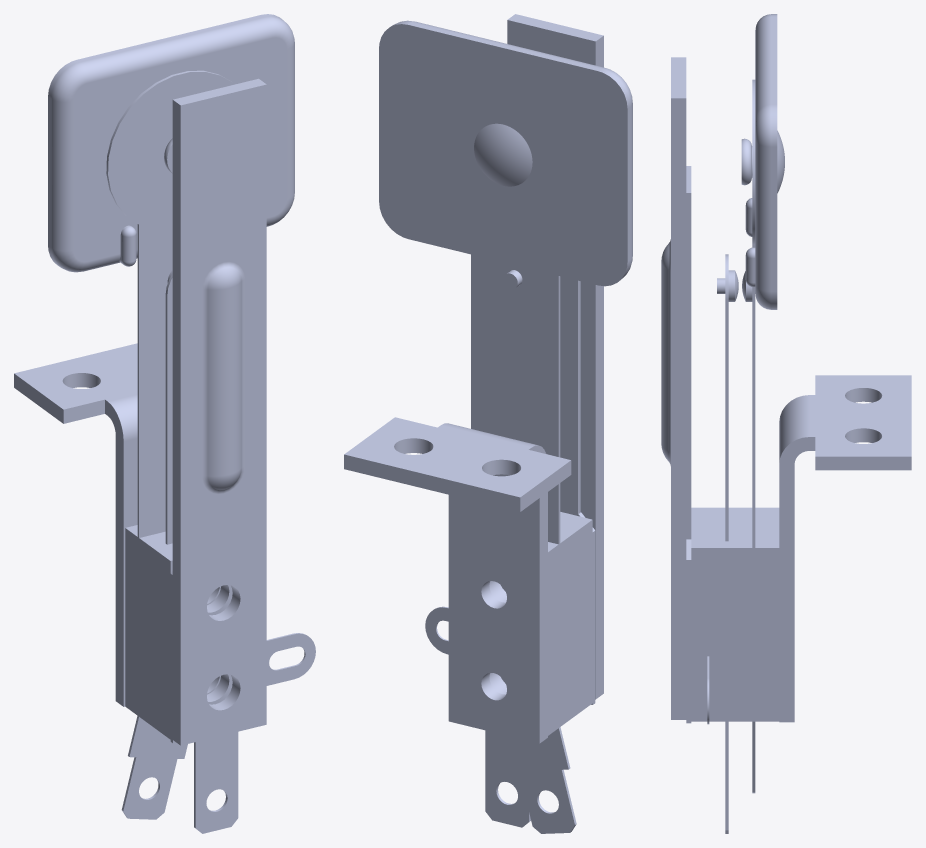
Rendered from Target 005 Rectangular.fbx.
3 renders of one model, left to right at view 1: azimuth 30°, elevation 25°; view 2: azimuth 150°, elevation 25°; view 3: azimuth 270°, elevation 25°, orthographic. The views are drawn at different scales.
Visible parts, largest first — view 1: Target Backing Bar 001, Target - Plastic Face 002, Target - Spring Steel Blade 002, Target Mtg Angle 002, Target - Spring Steel Blade 004, Target Spacer Plate .093 (×2), Target Spacer Plate .060 (×2), Swich Leaf D; view 2: Target - Plastic Face 002, Target Mtg Angle 002, Target - Spring Steel Blade 002, Target Backing Bar 001, switch fish paper 001, Target Spacer Plate .093 (×2), Target Spacer Plate .060 (×2), Target - Spring Steel Blade 004, rivet, Swich Leaf D; view 3: Target Mtg Angle 002, Target Backing Bar 001, Target Spacer Plate .093 (×2), Target - Plastic Face 002, Target Spacer Plate .060 (×2), switch fish paper 001, Target - Spring Steel Blade 002, Target - Spring Steel Blade 004, rivet, Swich Leaf D.
Part boxes in pixels (left/top/right/bottom): Target Backing Bar 001: left=172, top=78, right=266, bottom=745; Target - Plastic Face 002: left=48, top=14, right=294, bottom=272; Target - Spring Steel Blade 002: left=106, top=70, right=234, bottom=819; Target Mtg Angle 002: left=14, top=343, right=137, bottom=706; Target - Spring Steel Blade 004: left=151, top=274, right=238, bottom=833; Target Spacer Plate .093 (×2): left=125, top=525, right=165, bottom=725; Target Spacer Plate .060 (×2): left=153, top=543, right=232, bottom=739; Swich Leaf D: left=161, top=551, right=315, bottom=733; Target - Plastic Face 002: left=379, top=20, right=632, bottom=286; Target Mtg Angle 002: left=344, top=417, right=571, bottom=743; Target - Spring Steel Blade 002: left=471, top=254, right=576, bottom=833; Target Backing Bar 001: left=507, top=14, right=603, bottom=699; switch fish paper 001: left=560, top=276, right=595, bottom=704; Target Spacer Plate .093 (×2): left=489, top=531, right=572, bottom=735; Target Spacer Plate .060 (×2): left=560, top=512, right=592, bottom=715; Target - Spring Steel Blade 004: left=485, top=529, right=574, bottom=827; rivet: left=474, top=123, right=532, bottom=186; Swich Leaf D: left=425, top=520, right=584, bottom=709; Target Mtg Angle 002: left=779, top=375, right=911, bottom=722; Target Backing Bar 001: left=661, top=57, right=686, bottom=719; Target Spacer Plate .093 (×2): left=728, top=507, right=779, bottom=721; Target - Plastic Face 002: left=745, top=14, right=777, bottom=309; Target Spacer Plate .060 (×2): left=691, top=507, right=725, bottom=721; switch fish paper 001: left=686, top=166, right=691, bottom=723; Target - Spring Steel Blade 002: left=752, top=79, right=755, bottom=793; Target - Spring Steel Blade 004: left=725, top=254, right=728, bottom=833; rivet: left=741, top=130, right=784, bottom=193; Swich Leaf D: left=707, top=507, right=709, bottom=724.
Size of the model in its own units: 2.7 by 8.3 by 2.49.
